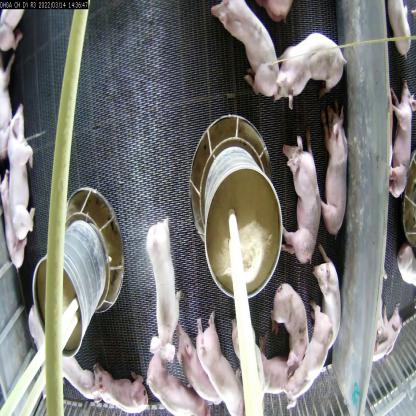Pig: (276, 121, 325, 267), (213, 3, 286, 100), (193, 307, 250, 415), (171, 312, 225, 414), (143, 218, 186, 344), (278, 24, 346, 101), (4, 100, 39, 237), (312, 248, 348, 365), (323, 108, 356, 232), (92, 358, 154, 416), (271, 278, 310, 370), (387, 71, 412, 195)
